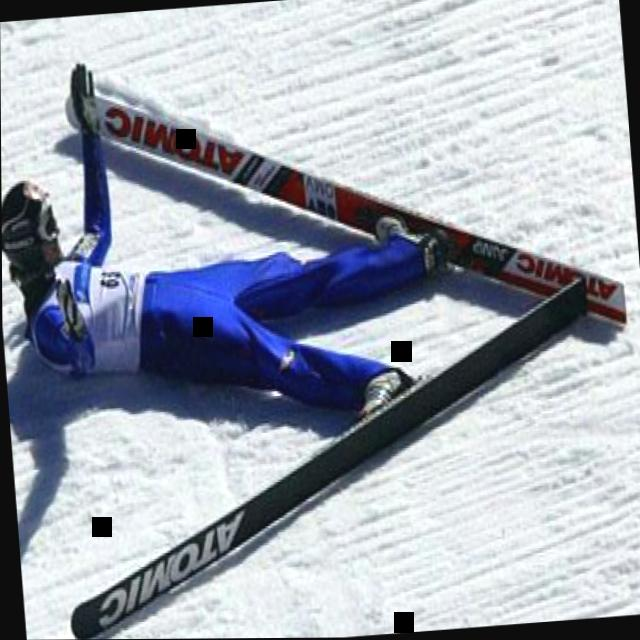Fall-Detected: (0, 31, 465, 487)
